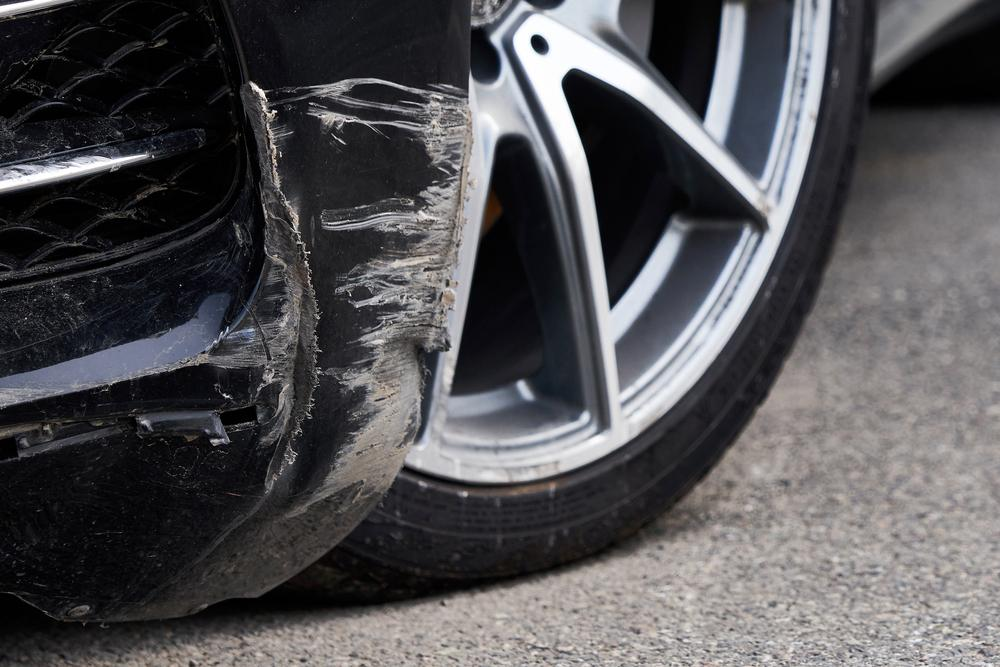scratch: (0, 73, 475, 519)
